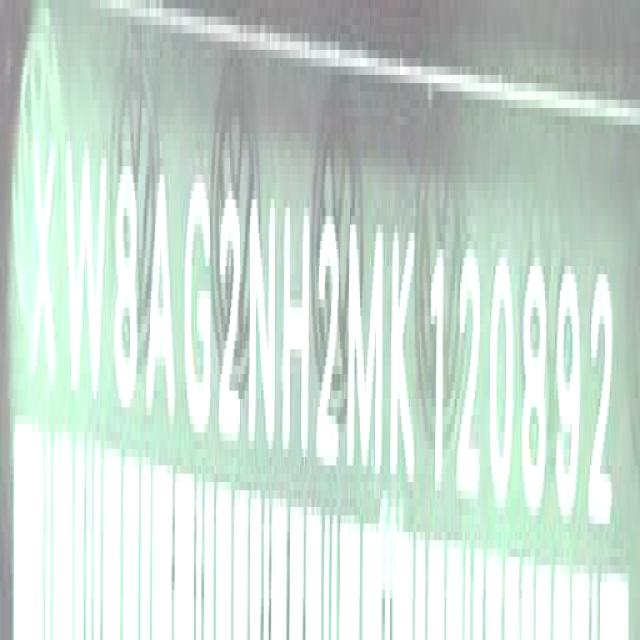0: (489, 247, 519, 512)
1: (426, 231, 448, 500)
2: (590, 267, 618, 534), (217, 189, 244, 452), (458, 244, 483, 508), (317, 215, 342, 472)
8: (522, 256, 550, 517), (116, 161, 141, 415)
9: (554, 262, 581, 528)
A: (144, 163, 174, 430)
G: (183, 173, 214, 441)
H: (284, 207, 313, 466)
K: (386, 218, 419, 490)
M: (347, 204, 383, 486)
N: (250, 192, 280, 459)
W: (67, 140, 111, 408)
X: (25, 140, 58, 400)
